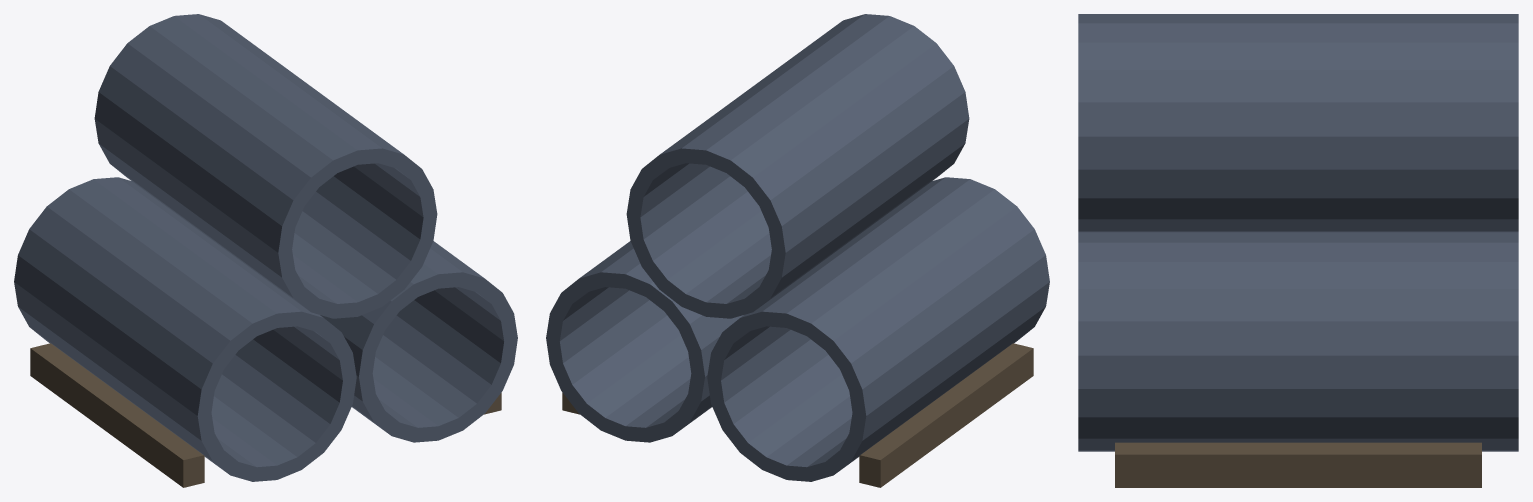
The model's file is build_pipe_stack.glb.
3 renders of one model, left to right at view 1: azimuth 30°, elevation 25°; view 2: azimuth 150°, elevation 25°; view 3: azimuth 270°, elevation 25°, orthographic. The views are drawn at different scales.
Visible parts, largest first — view 1: concrete_raw_cast, formwork_plywood; view 2: concrete_raw_cast, formwork_plywood; view 3: concrete_raw_cast, formwork_plywood.
Boxes of the visible parts, box(x1,y1,x2,y2) form: concrete_raw_cast: box(14, 14, 517, 481); formwork_plywood: box(30, 343, 501, 487); concrete_raw_cast: box(546, 14, 1049, 481); formwork_plywood: box(562, 343, 1033, 487); concrete_raw_cast: box(1078, 14, 1518, 451); formwork_plywood: box(1115, 442, 1481, 487).
Bounding box in the file's own units: 3.02 × 2.79 × 3.
